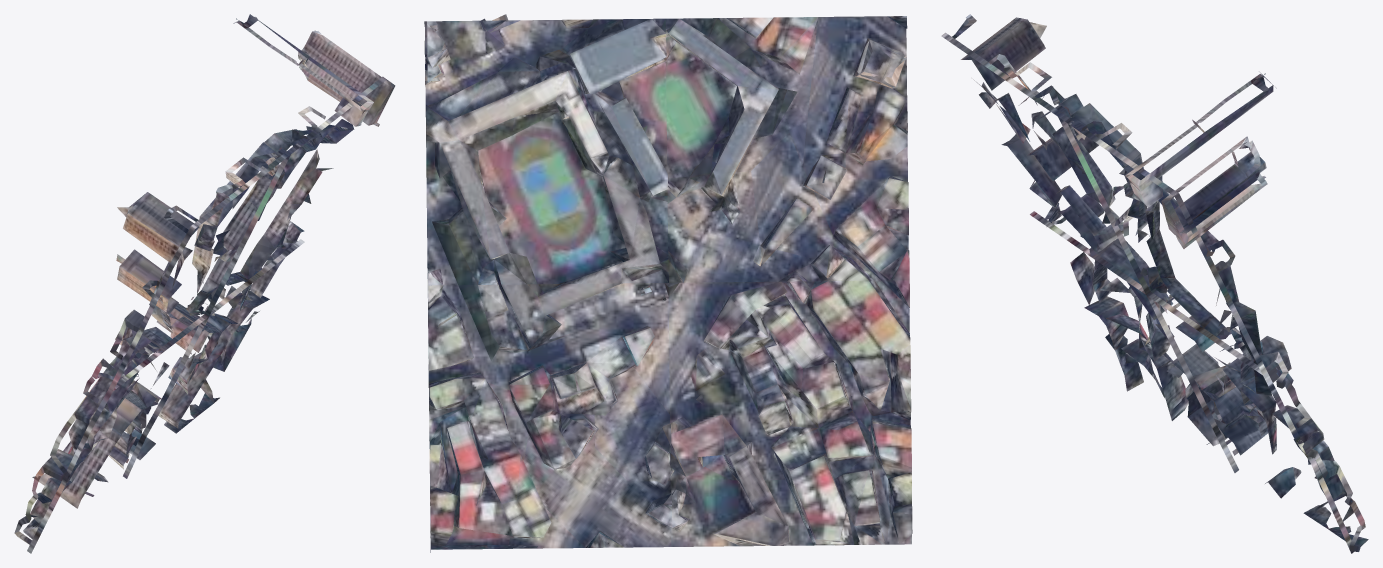
3 renders of one model, left to right at view 1: azimuth 30°, elevation 25°; view 2: azimuth 150°, elevation 25°; view 3: azimuth 270°, elevation 25°, orthographic. The views are drawn at different scales.
Size of the model in its own units: 314 by 320 by 266.
1 material, 1 textured.
